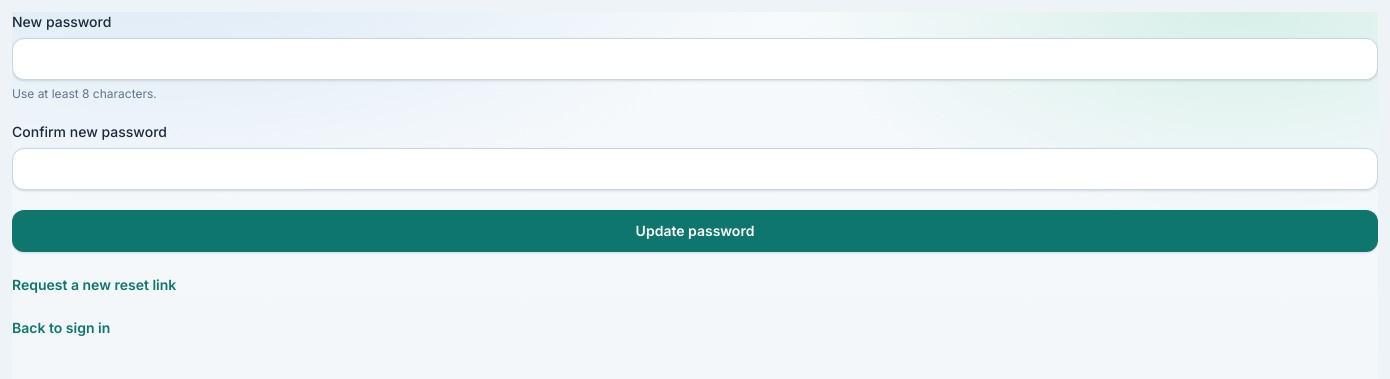
Test: preserves both values and focuses confirmation on mismatch, then permits correction
Type "password123" into the password field labelled "New password" at (695,59), box [12,38,1378,80]
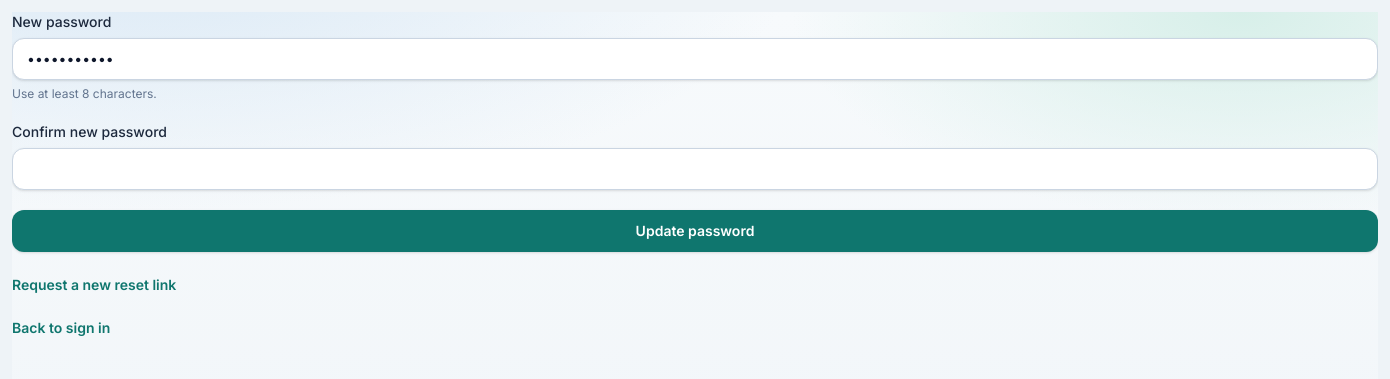
Type "different123" into the password field labelled "Confirm new password" at (695,169), box [12,148,1378,190]
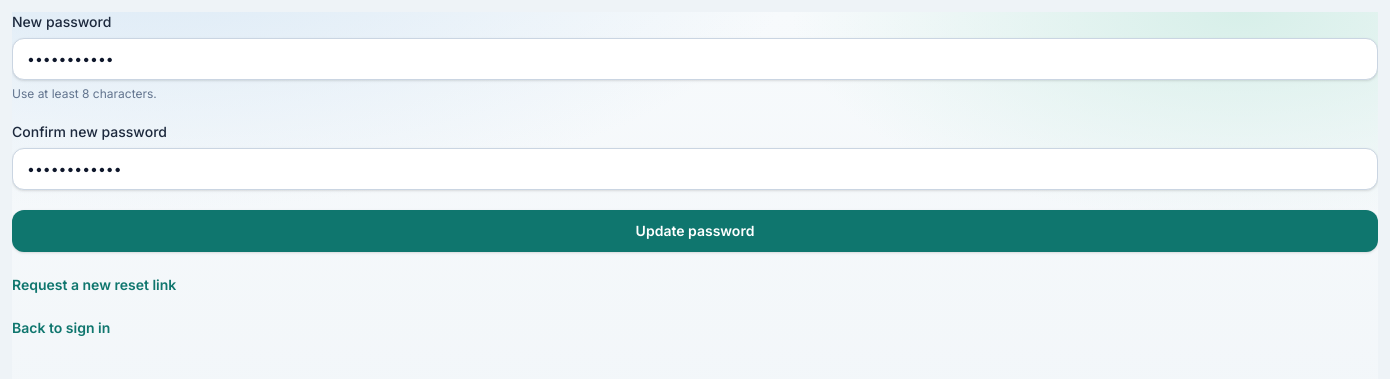
Click the button "Update password" at (695,231), box [12,210,1378,252]
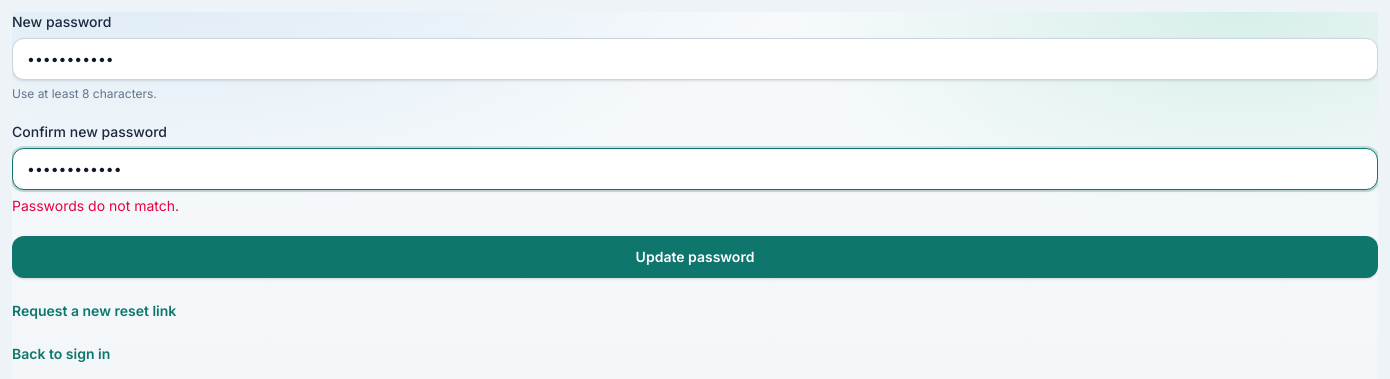
Expected: the text "Passwords do not match." is shown, [12,197,179,214]
Type "password123" into the password field labelled "Confirm new password" at (695,169), box [12,148,1378,190]
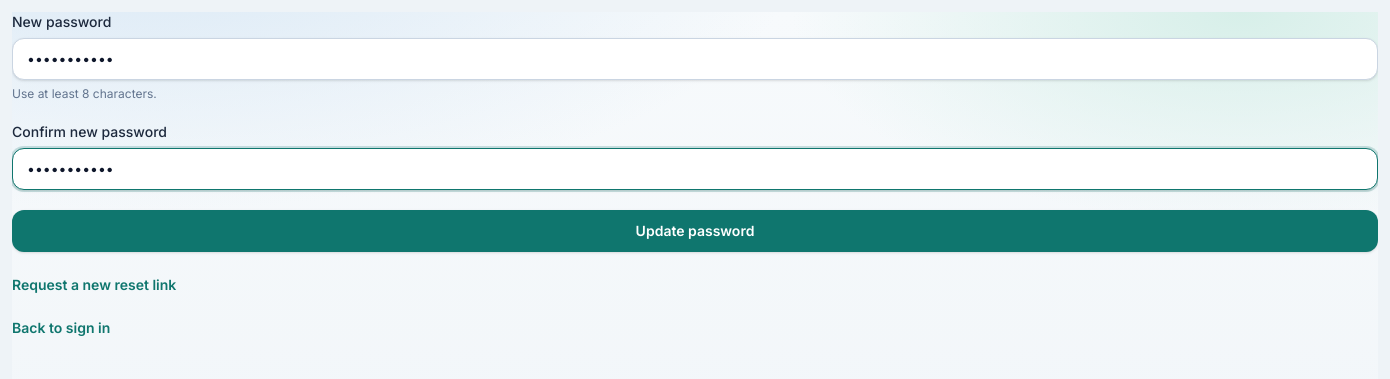
Click the button "Update password" at (695,231), box [12,210,1378,252]
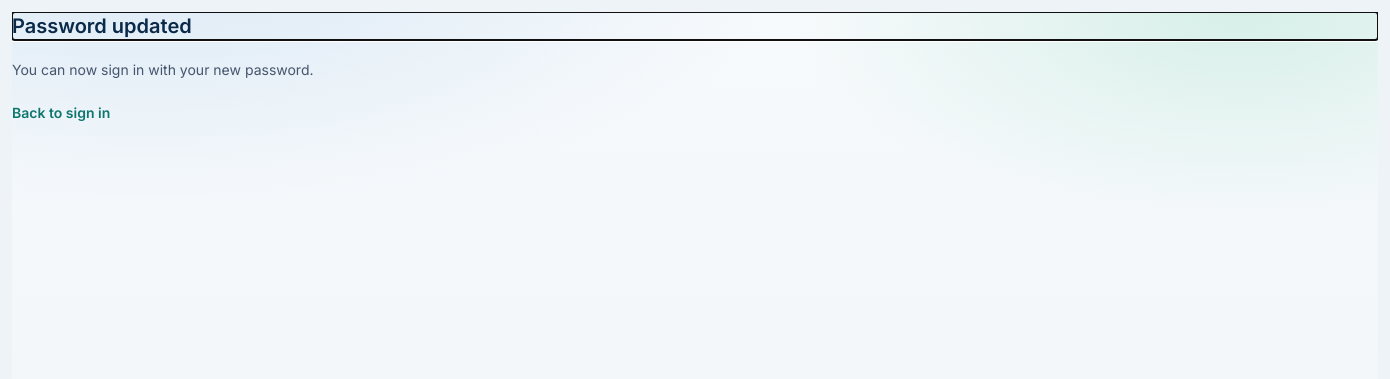
Expected: the heading "Password updated" is shown, [12,14,192,38]
Expected: the text "You can now sign in with your new password." is shown, [12,61,314,78]
